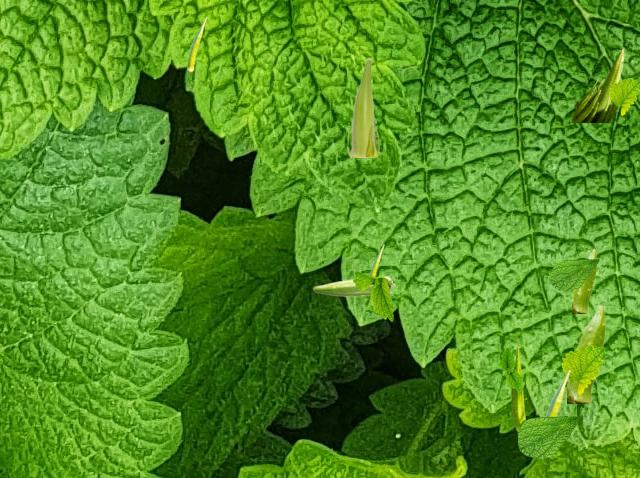okra: (570, 47, 625, 121), (567, 304, 605, 402), (346, 58, 378, 156), (313, 276, 394, 295), (572, 248, 596, 312), (511, 346, 525, 433), (545, 369, 569, 415), (187, 16, 206, 71), (369, 244, 383, 275)
